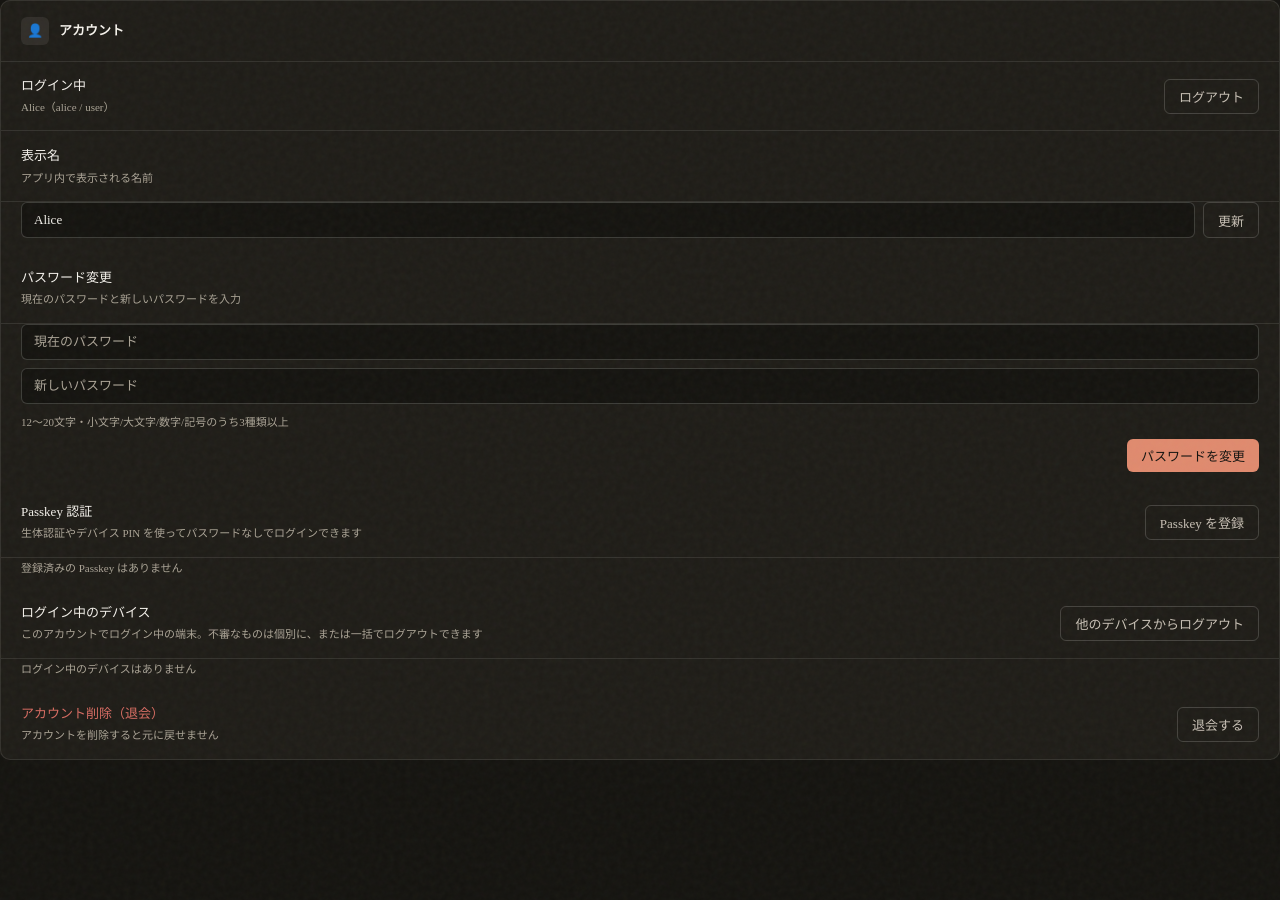
it: AccountSection — 結合テスト：fetch が 422 FastAPI エラー配列を返す → UI に日本語対訳を表示 › fetch が {detail:[{msg:"Value error, password must be at least 12 characters long",...}]} 422 を返し、UI に日本語メッセージを表示
The image size is (1280, 900).
In the password field labelled "現在のパスワード": (640, 342) [21, 324, 1259, 360], type "current-password"
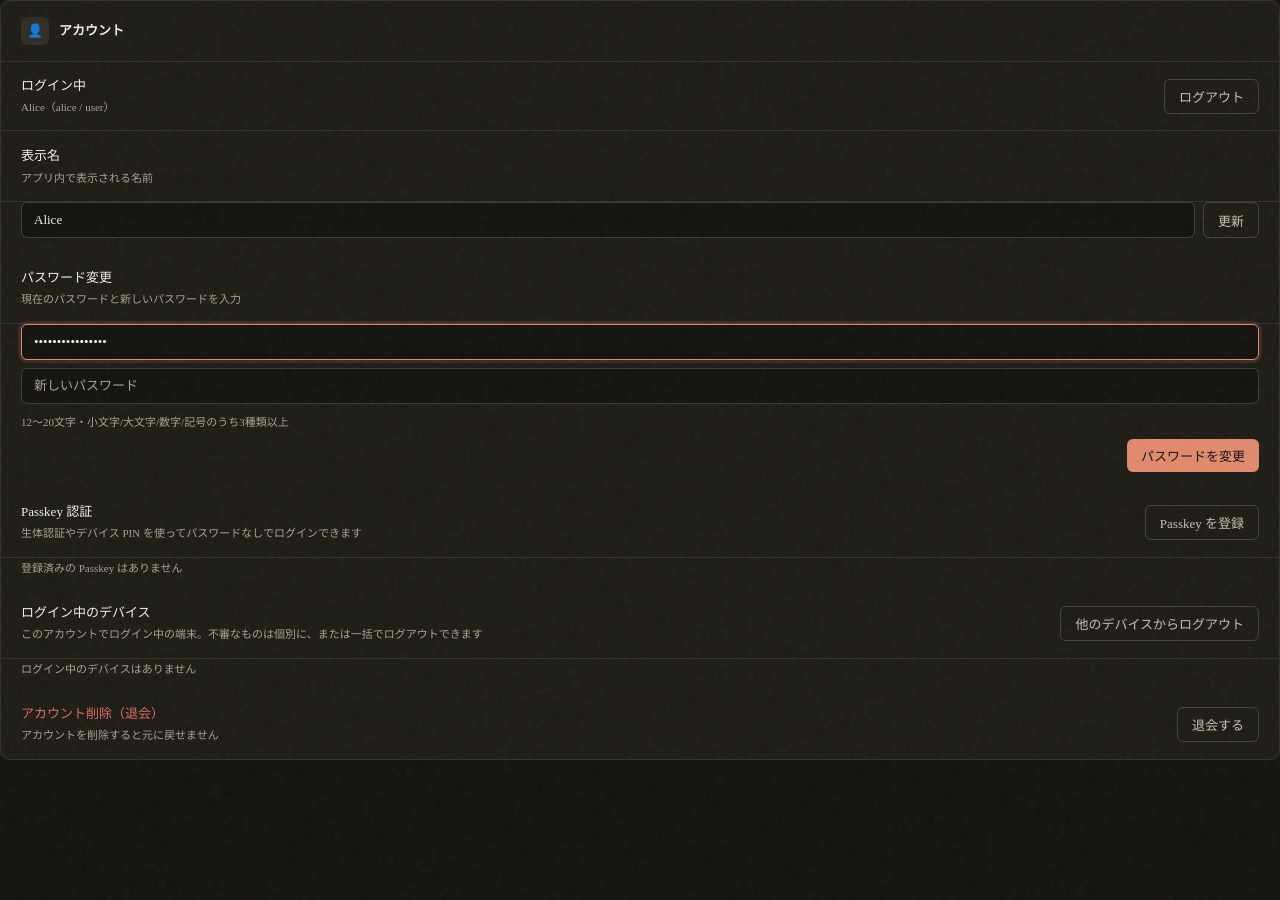
In the password field labelled "新しいパスワード": (640, 386) [21, 368, 1259, 404], type "Abcd1234567!"
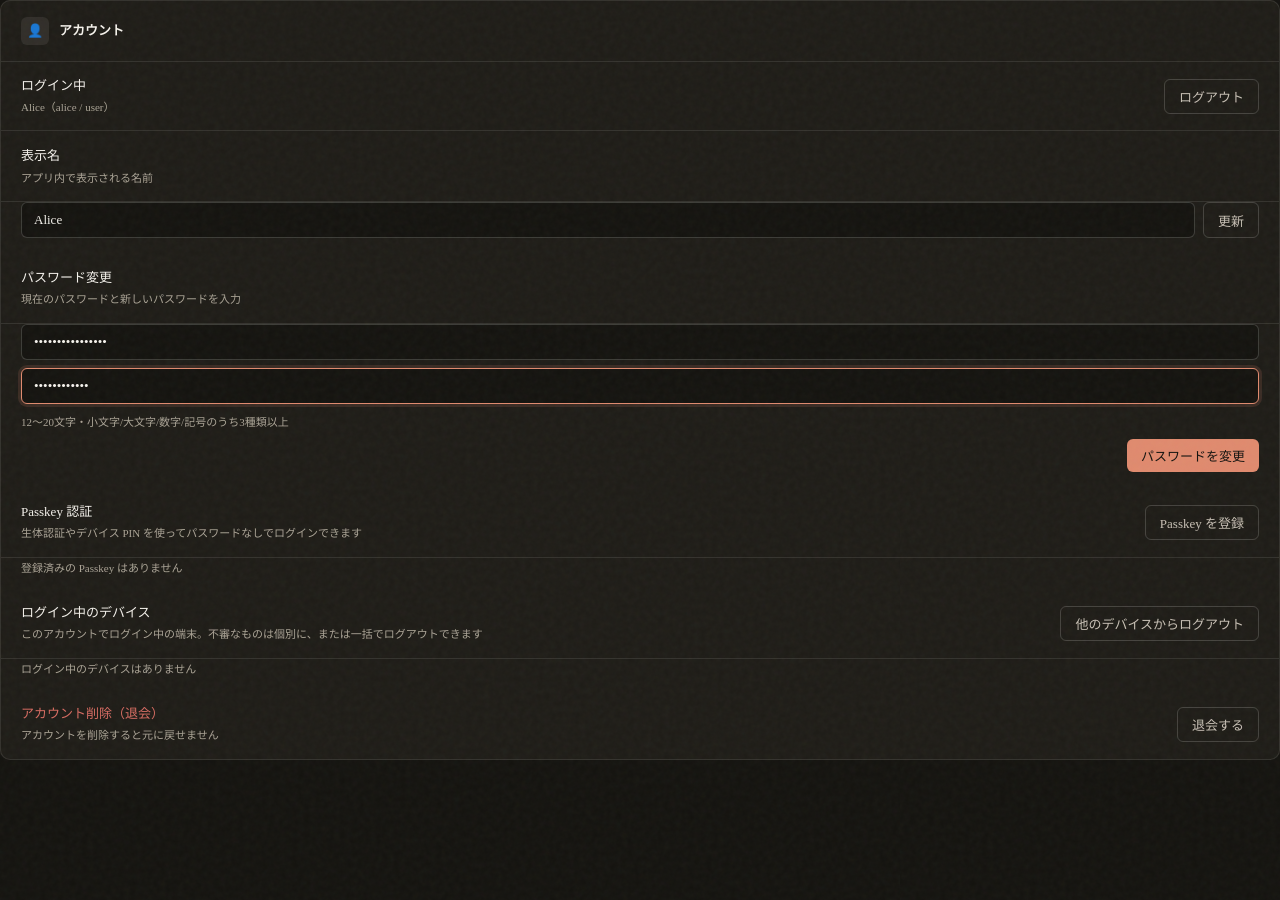
Click the button "パスワードを変更": (1193, 456) [1127, 439, 1259, 472]
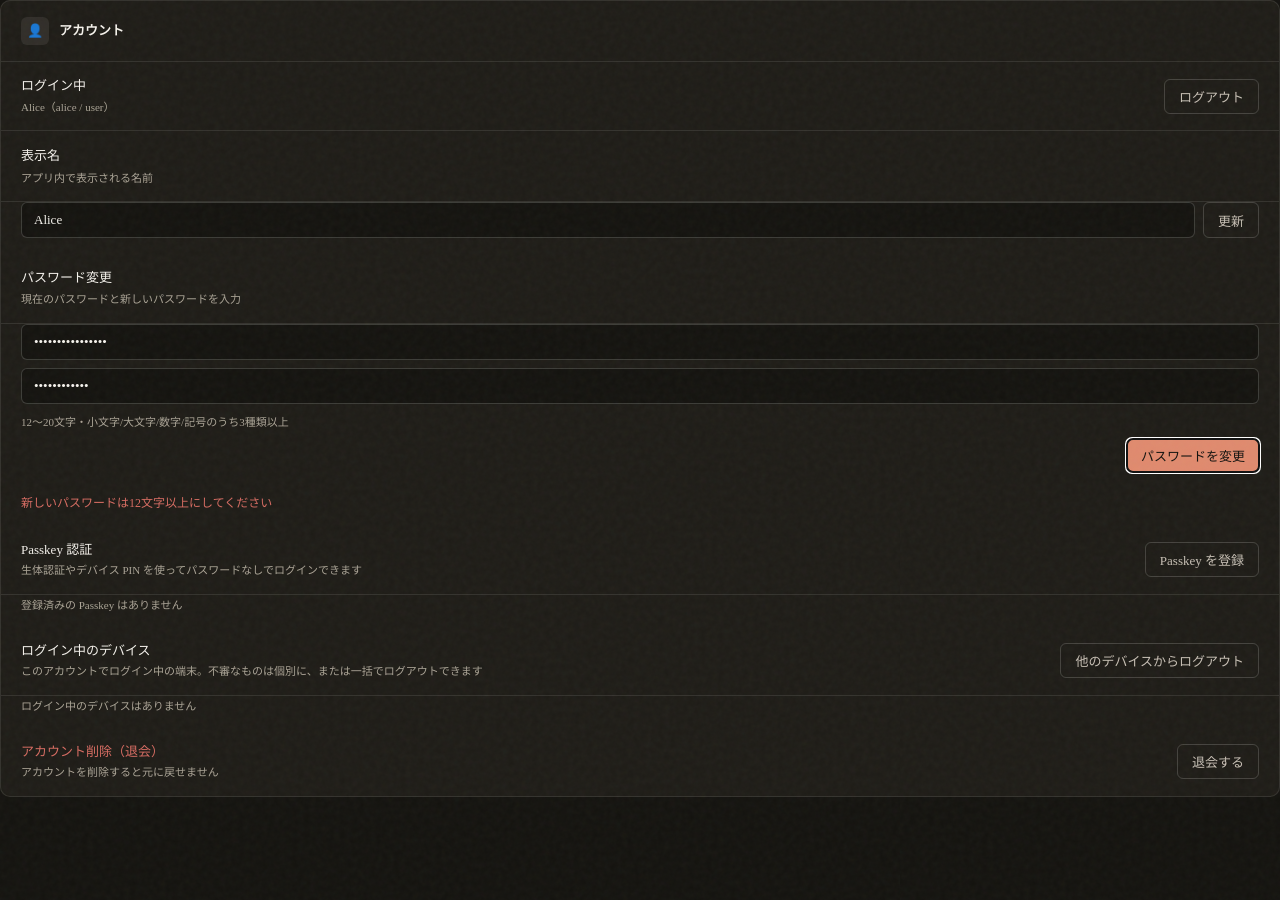
Expected: the text "新しいパスワードは12文字以上にしてください" is shown, [21, 496, 272, 510]
